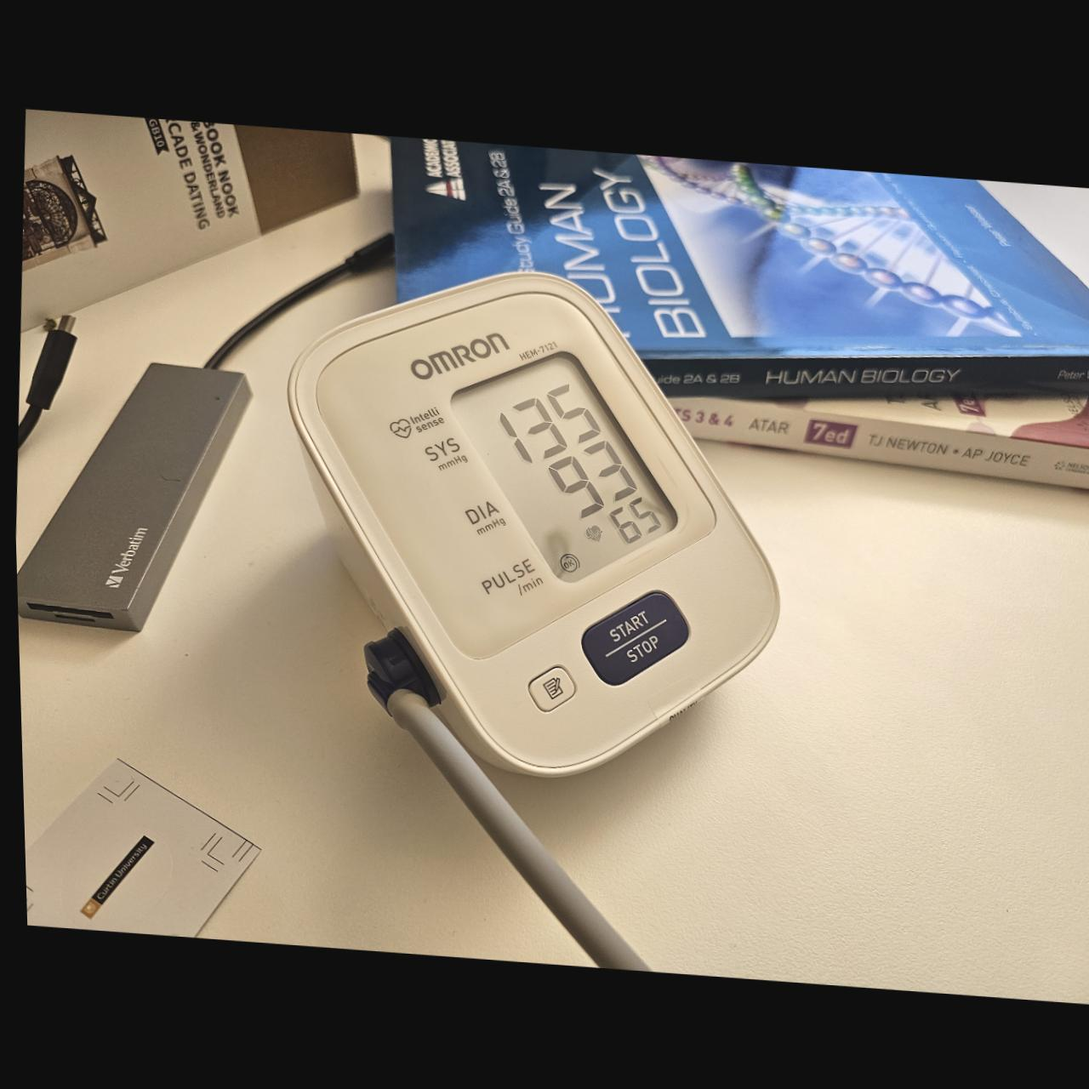lcd display: (436, 340, 693, 596)
